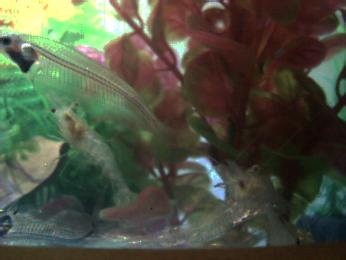glassfish: (1, 32, 170, 136), (1, 203, 103, 246)
siberian prawn: (51, 101, 136, 209), (215, 158, 300, 245)
